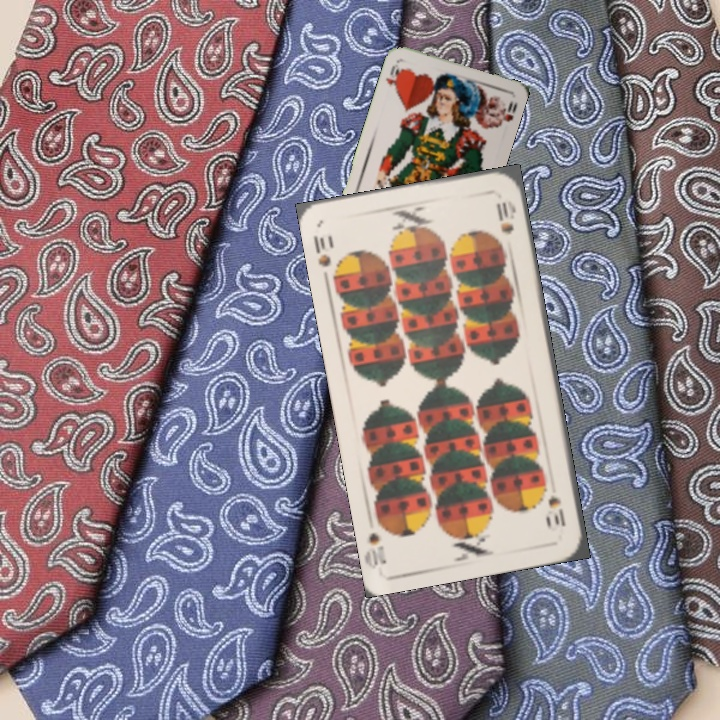HO: (381, 58, 405, 96)
S10: (309, 231, 334, 270), (544, 491, 568, 529)
